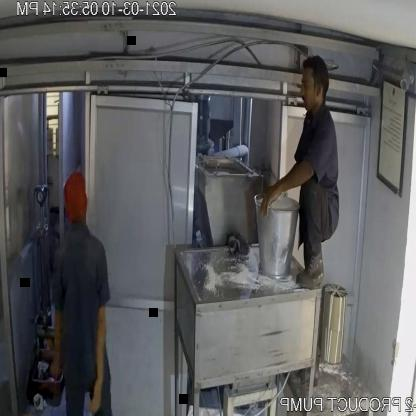no_glove: (258, 142, 324, 220), (85, 293, 110, 416)
